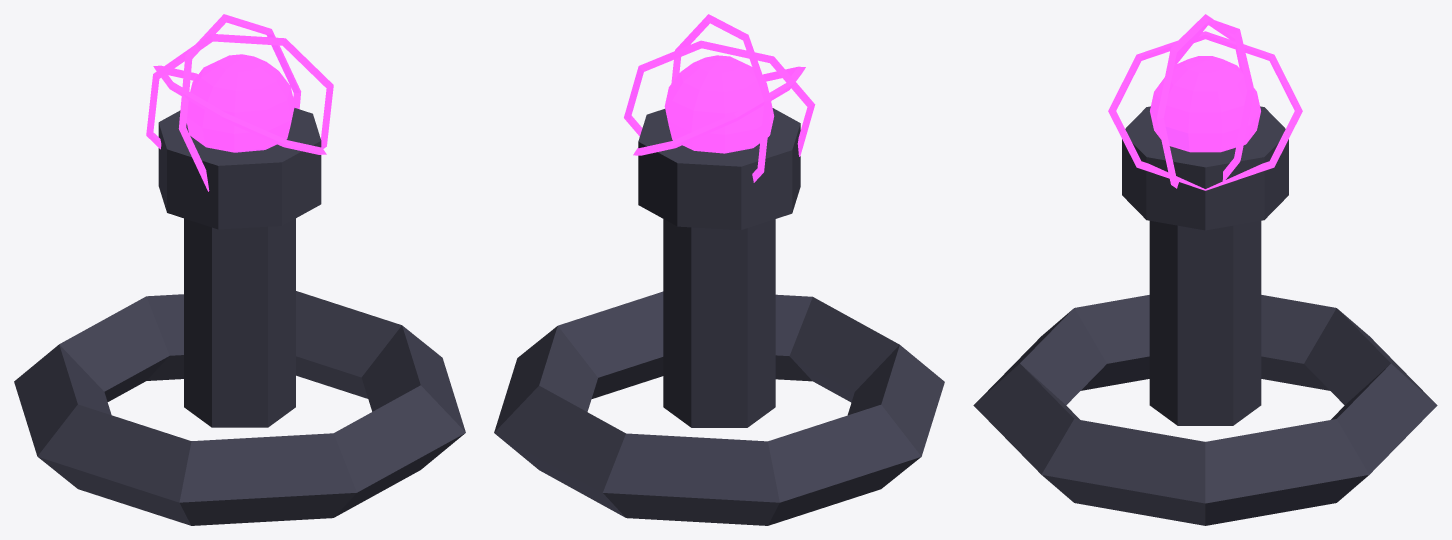
File: tower_gravity.glb
3 renders of one model, left to right at view 1: azimuth 30°, elevation 25°; view 2: azimuth 150°, elevation 25°; view 3: azimuth 270°, elevation 25°, orthographic.
Visible parts, largest first — view 1: tower_gravity; view 2: tower_gravity; view 3: tower_gravity.
Boxes of the visible parts, x1,y1,x2,y2 form: tower_gravity: (14,14,465,525); tower_gravity: (494,14,944,525); tower_gravity: (973,14,1437,525).
Size of the model in its own units: 1 by 0.9973 by 1.
